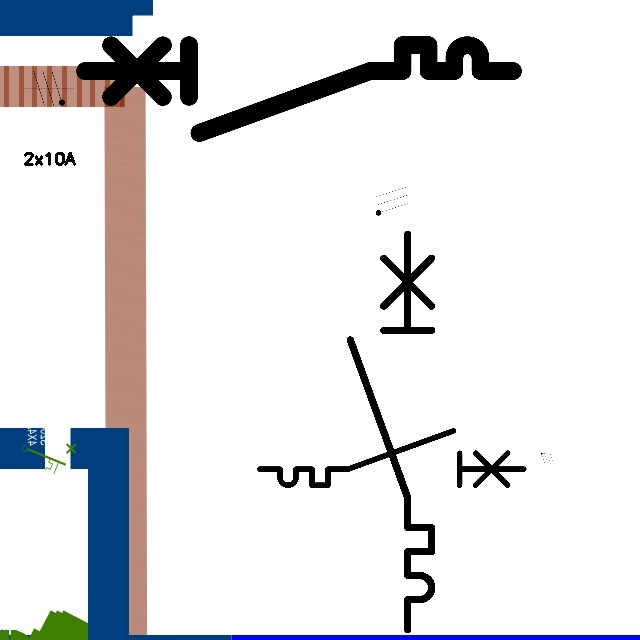interruptor_termomagnetico: (73, 34, 523, 144), (340, 224, 442, 640), (253, 424, 531, 492)
